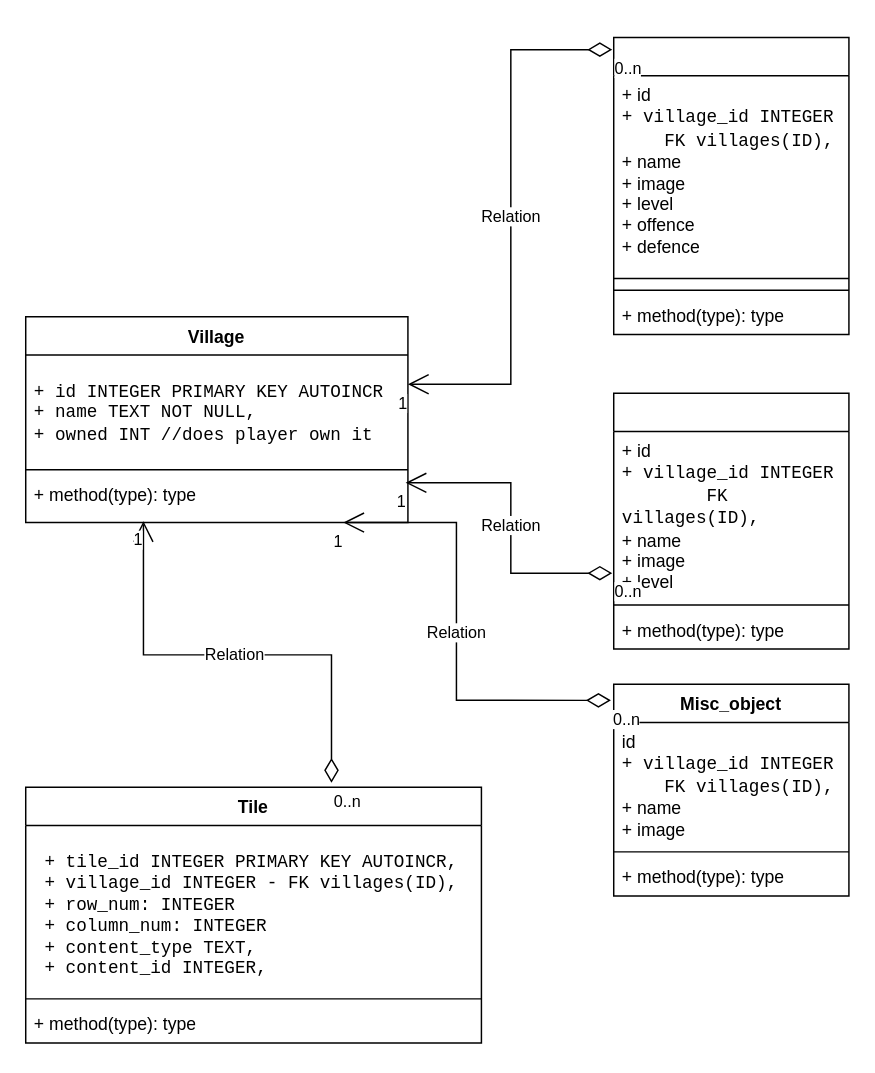
The diagram is 875 pixels wide and 1073 high, and some of its shapes have lost their labels. The shapes that lost their labels are listed below. From the top down, each one's box as (x1, y1, x2, y2) in pixels, then its label:
(612, 36, 849, 334): Unit
(612, 392, 849, 649): Building
